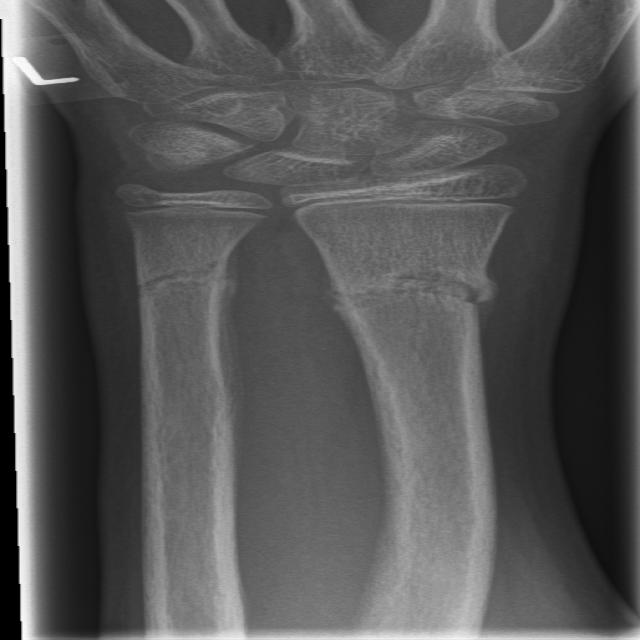radius fracture: (326, 253, 499, 353)
ulna fracture: (124, 256, 242, 348)
